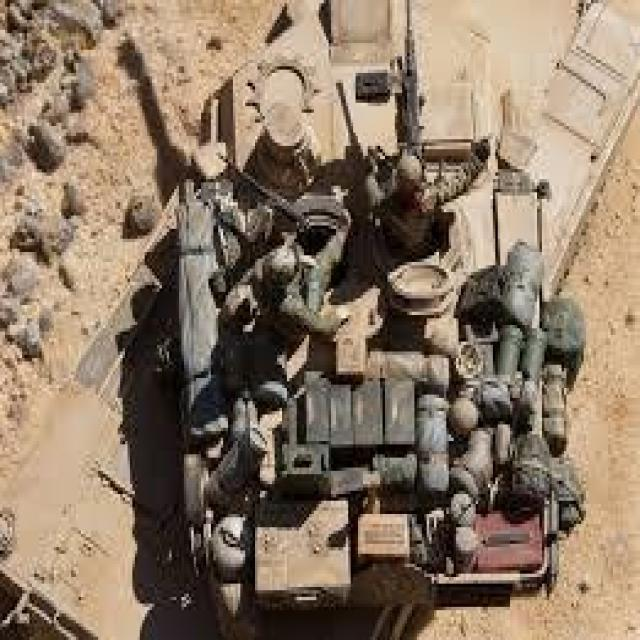Tanks: (176, 30, 562, 623)
